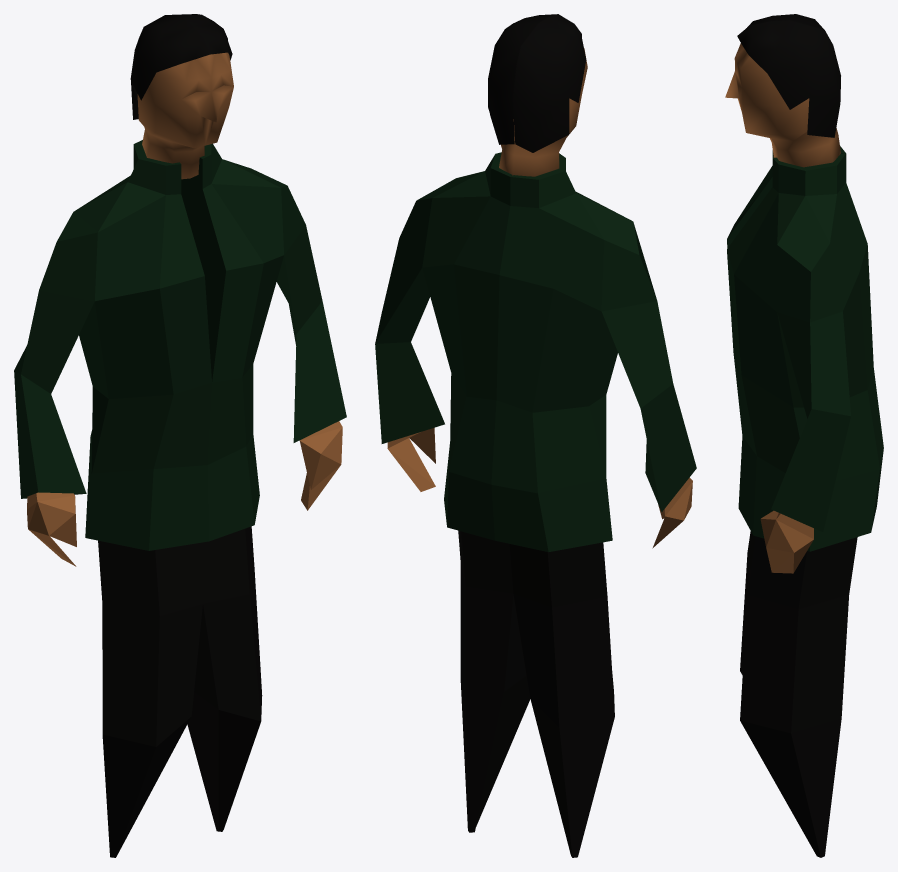
Rendered from Personage2.obj.
3 views of the same model, side by side, from view 1: azimuth 30°, elevation 25°; view 2: azimuth 150°, elevation 25°; view 3: azimuth 270°, elevation 25° (orthographic). The views are drawn at different scales.
Parts seen in each view (by area): view 1: Plane.007_Plane.013; view 2: Plane.007_Plane.013; view 3: Plane.007_Plane.013.
Part boxes in pixels (x1,y1,x2,y2): Plane.007_Plane.013: (14, 14, 346, 857); Plane.007_Plane.013: (375, 14, 696, 857); Plane.007_Plane.013: (725, 14, 883, 857).
Size of the model in its own units: 1.06 by 2.76 by 0.4893.
